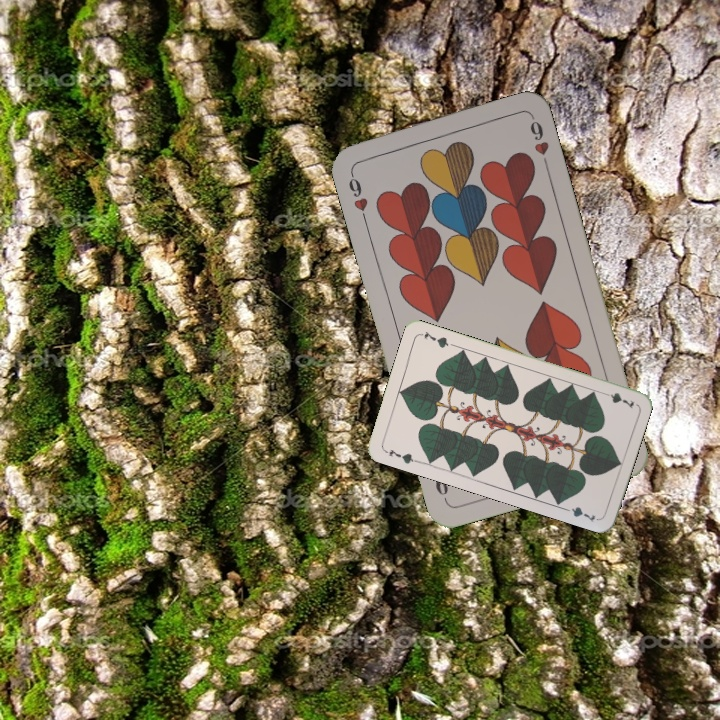G7: (597, 387, 637, 411), (381, 445, 420, 466)
H9: (344, 166, 371, 224)
